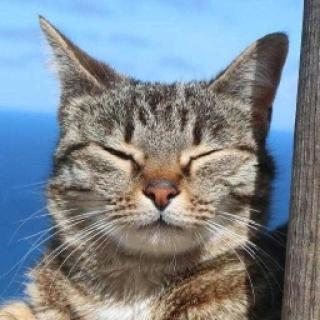cat: (37, 14, 295, 265)
nose: (142, 173, 182, 215)
